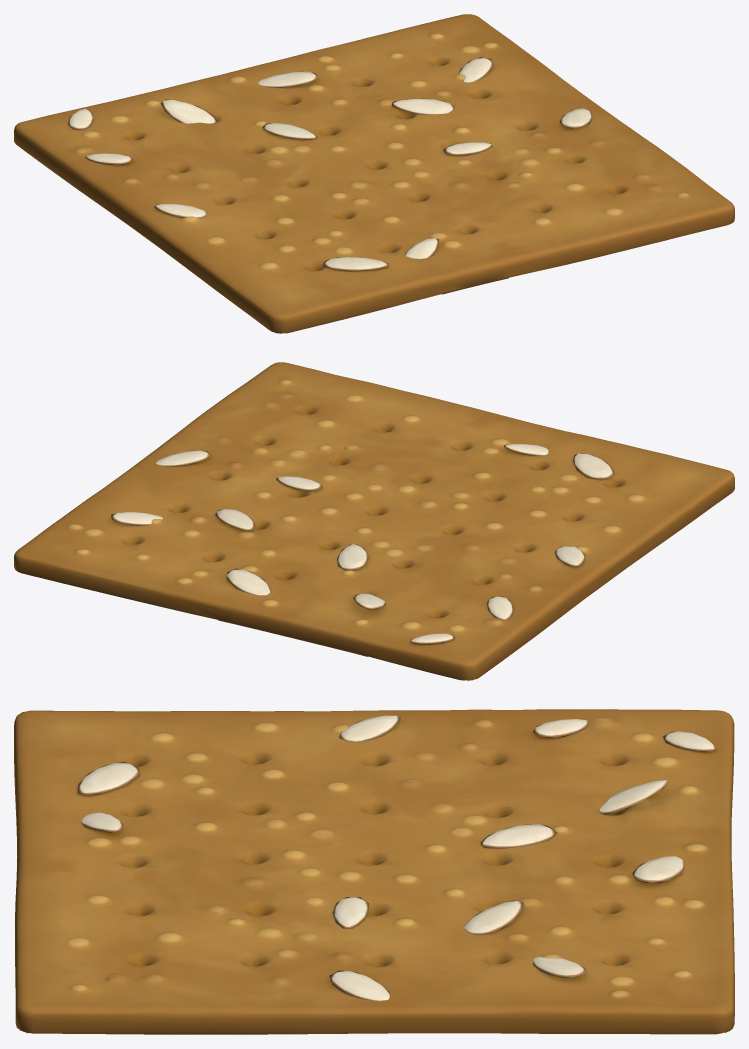
The model's file is cracker--honey-jam.glb.
3 views of the same model, one above another, from view 1: azimuth 30°, elevation 25°; view 2: azimuth 150°, elevation 25°; view 3: azimuth 270°, elevation 25° (orthographic). The views are drawn at different scales.
Visible parts, largest first — view 1: cracker_honey-jam; view 2: cracker_honey-jam; view 3: cracker_honey-jam.
Part boxes in pixels (x1=…): cracker_honey-jam: x1=14, y1=14, x2=734, y2=333; cracker_honey-jam: x1=14, y1=362, x2=734, y2=680; cracker_honey-jam: x1=14, y1=709, x2=734, y2=1034.
Size of the model in its own units: 1.01 by 0.0552 by 1.
Materials: 1 (1 with a texture image).
